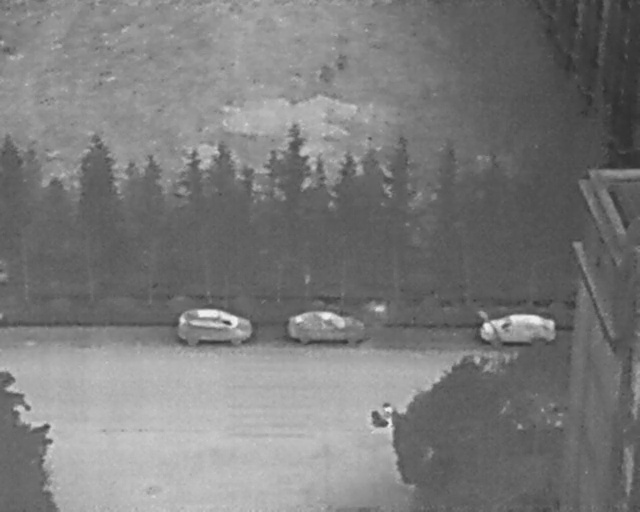Car: (178, 307, 252, 348), (288, 310, 366, 345), (481, 313, 556, 346)
